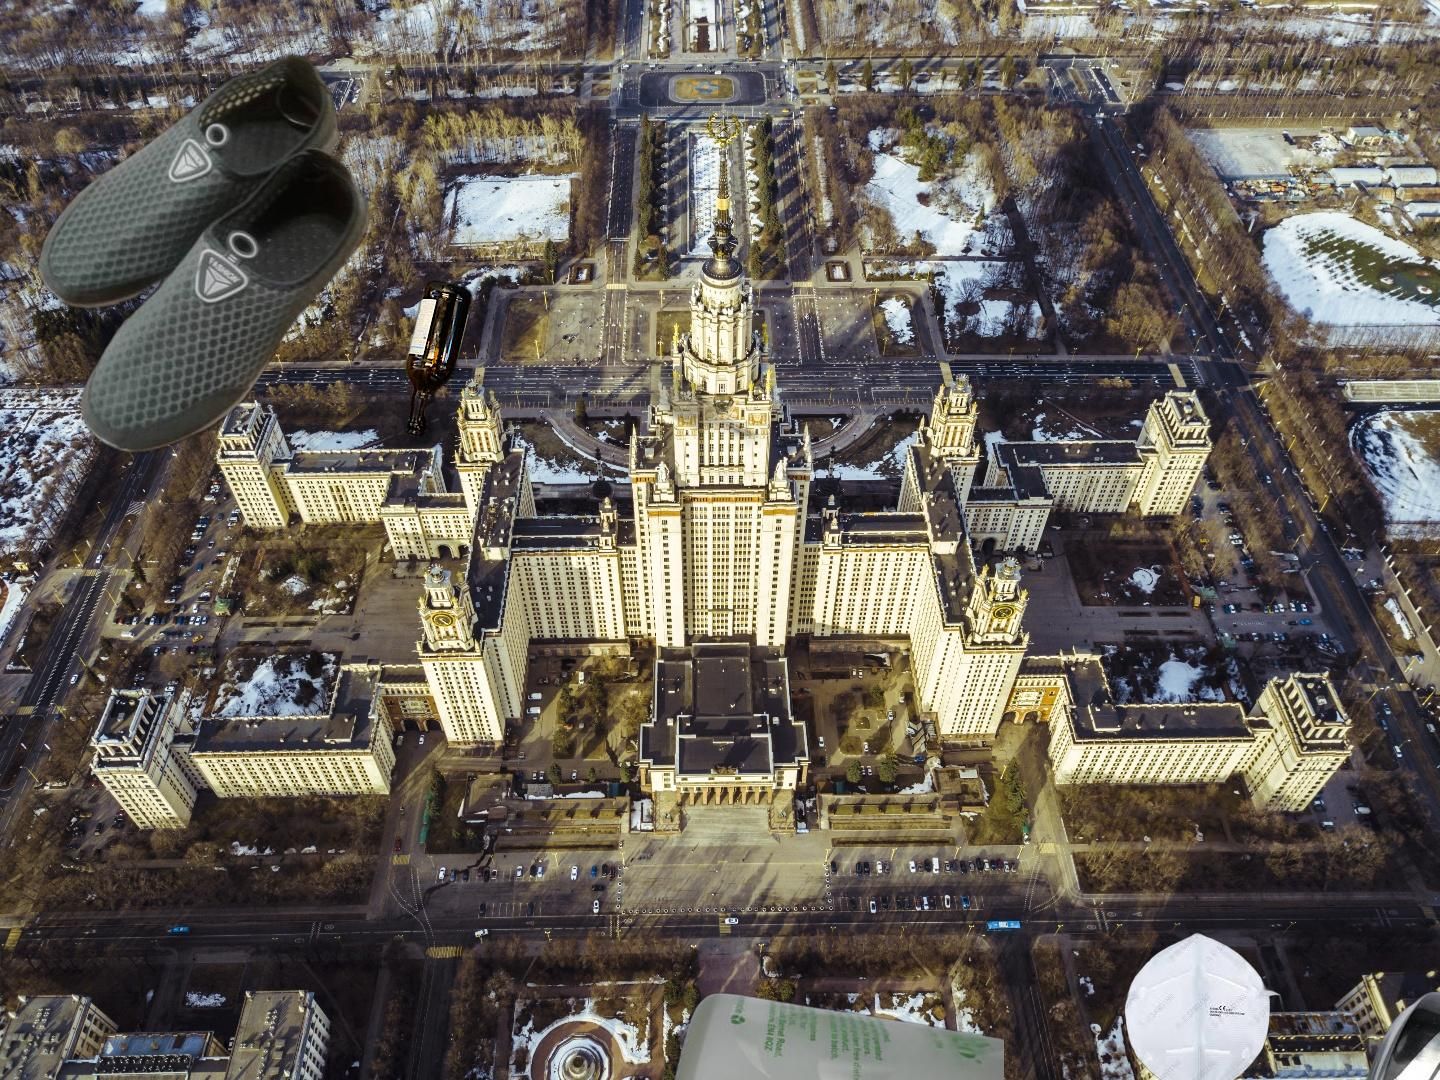glass: (401, 274, 773, 546), (656, 991, 1004, 1080)
metal-cans: (1352, 988, 1440, 1080)
shoes: (34, 47, 372, 459)
trash: (1062, 929, 1299, 1080)
